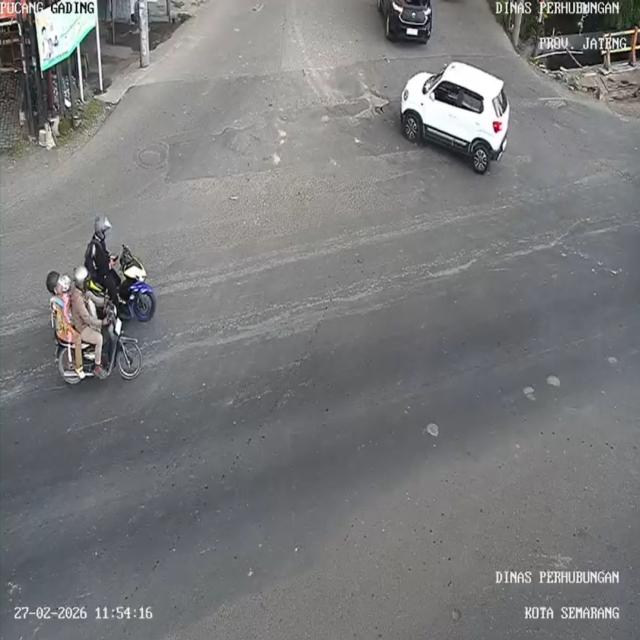motorcycle: (49, 323, 147, 388), (118, 245, 158, 317)
person: (69, 267, 98, 344), (85, 217, 118, 282), (48, 269, 66, 340), (59, 273, 74, 331)
rider_region: (42, 264, 144, 386), (81, 212, 161, 316)
